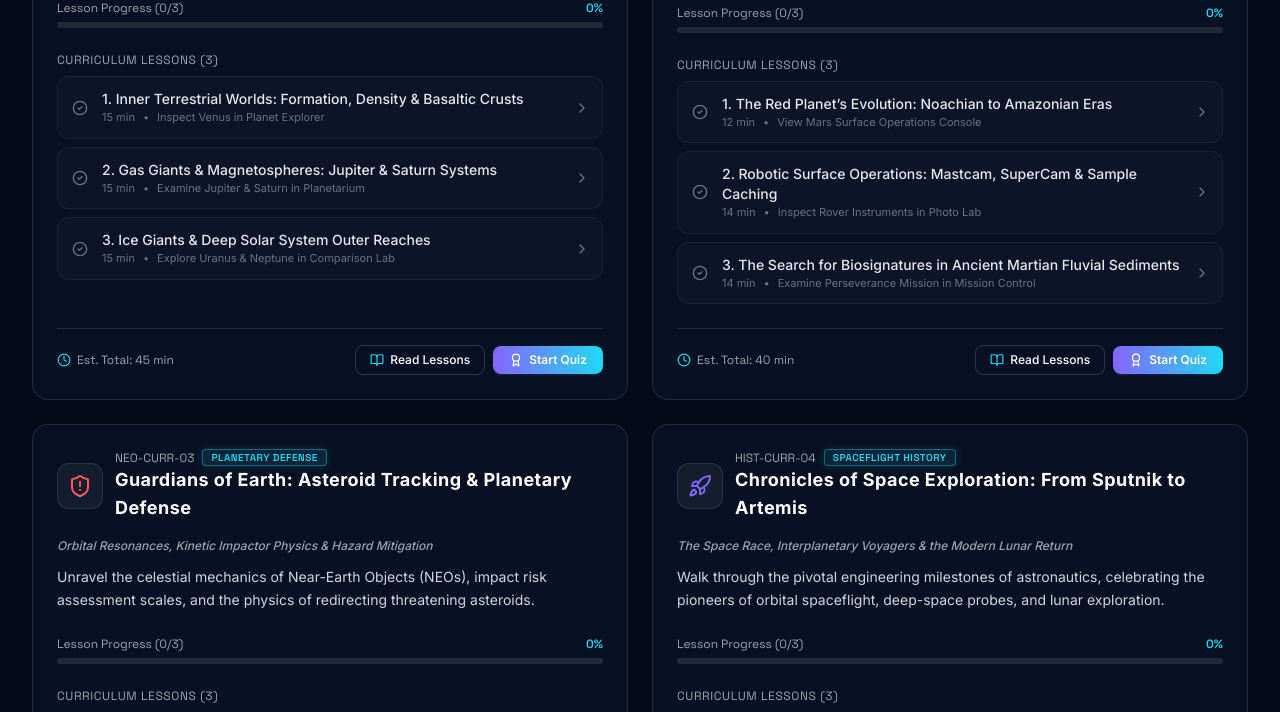
Test: Phase 7 — Personal Space Vault, Learning Hub & Explorer Passport Test Suite › UI Component Integration › Requirement 22: LearningPage opens interactive quiz modal and handles submission
This screenshot has width=1280, height=712.
(page scrolled)
Click the 1st button "Start Quiz": (548,360) top-left (493, 346), bottom-right (603, 374)
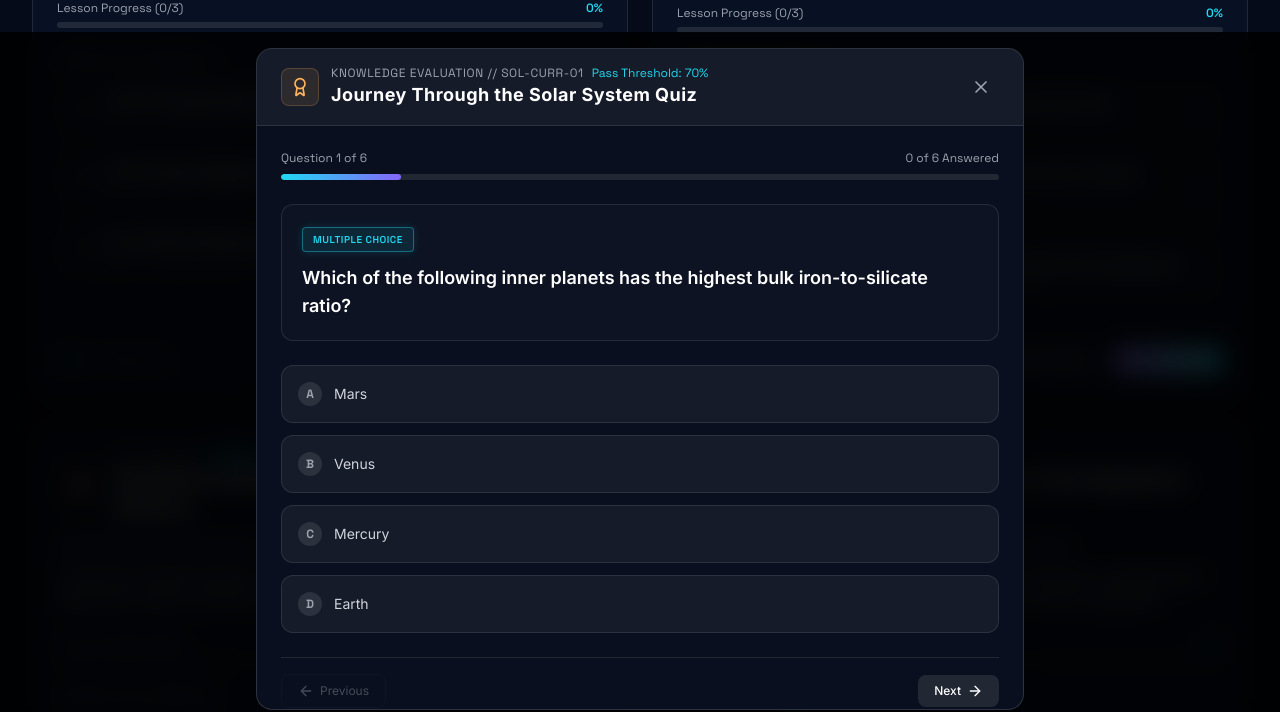
expect the text "Knowledge Evaluation // SOL-CURR-01" is shown: met, box top-left (331, 65), bottom-right (501, 81)
expect the text "Pass Threshold: 70%" is shown: met, box top-left (592, 65), bottom-right (708, 81)
